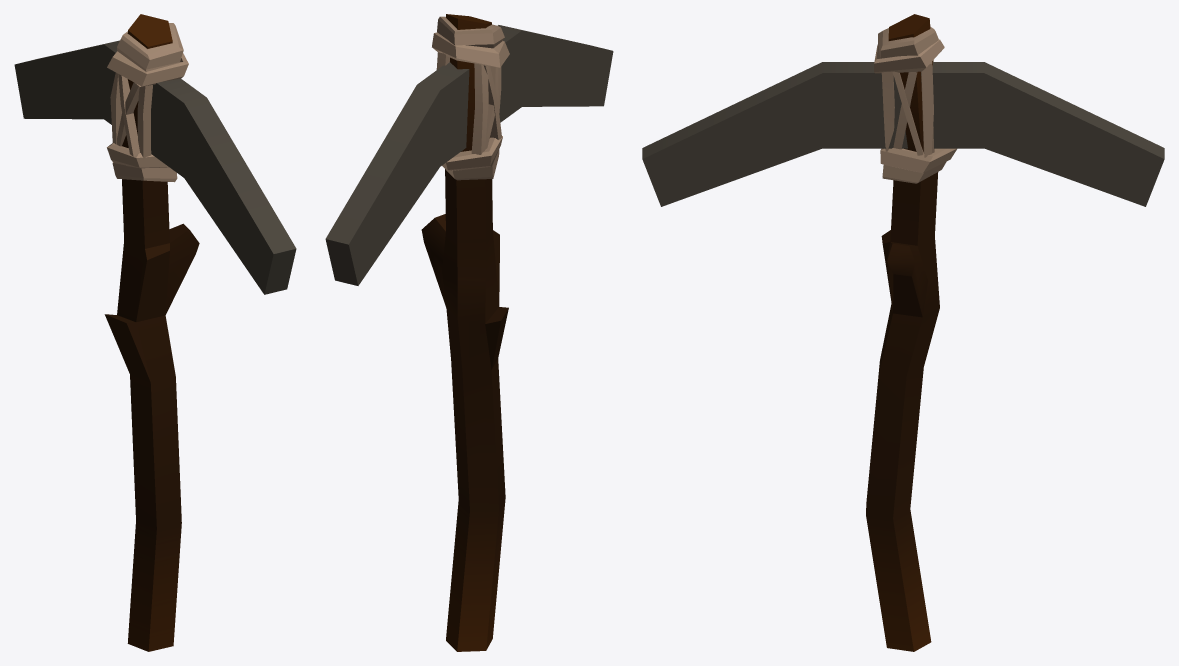
File: Pickaxe Stone.fbx
3 views of the same model, side by side, from view 1: azimuth 30°, elevation 25°; view 2: azimuth 150°, elevation 25°; view 3: azimuth 270°, elevation 25° (orthographic). The views are drawn at different scales.
Parts seen in each view (by area): view 1: PickaxeStone; view 2: PickaxeStone; view 3: PickaxeStone.
Boxes of the visible parts, bbox=[...] form: PickaxeStone: bbox=[14, 14, 296, 651]; PickaxeStone: bbox=[325, 14, 613, 651]; PickaxeStone: bbox=[642, 14, 1164, 651].
Bounding box in the file's own units: 25.89 × 187 × 142.
